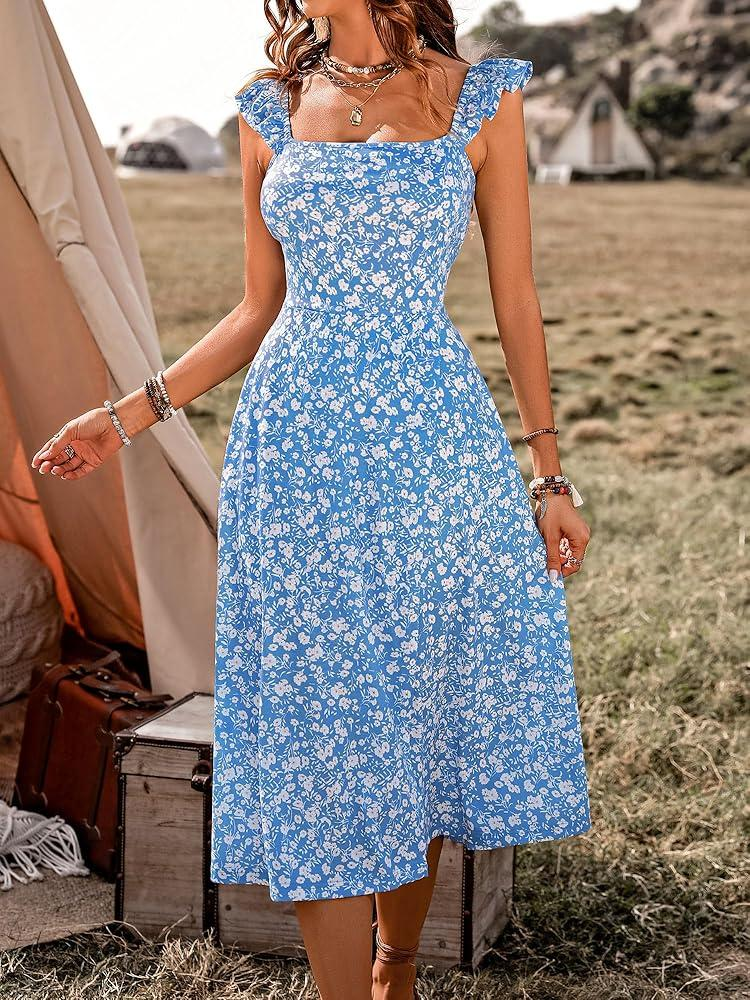dress: (204, 51, 596, 909)
